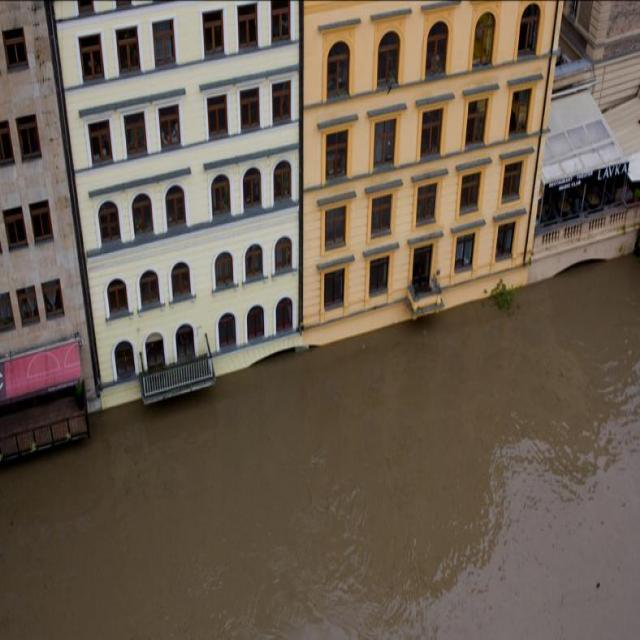flood: (3, 252, 640, 639)
